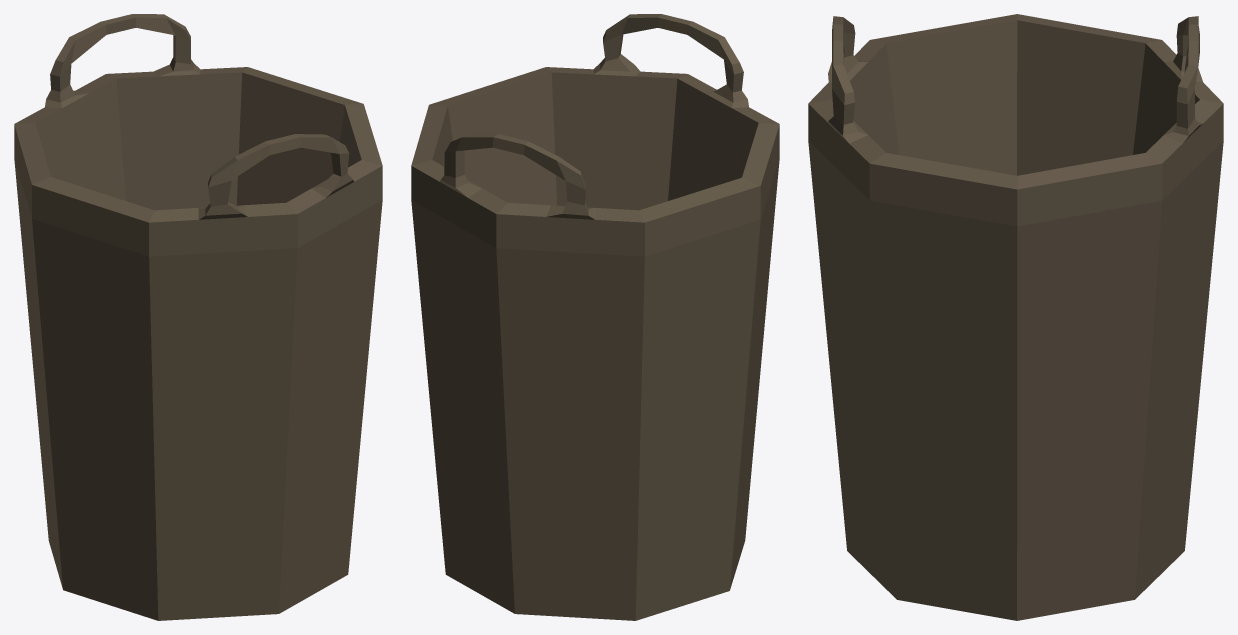
The model's file is LaundryBasket.fbx.
3 renders of one model, left to right at view 1: azimuth 30°, elevation 25°; view 2: azimuth 150°, elevation 25°; view 3: azimuth 270°, elevation 25°, orthographic. The views are drawn at different scales.
Visible parts, largest first — view 1: pCube51; view 2: pCube51; view 3: pCube51.
Boxes of the visible parts, x1,y1,x2,y2 form: pCube51: [14, 14, 382, 620]; pCube51: [411, 14, 779, 620]; pCube51: [808, 14, 1223, 620].
Bounding box in the file's own units: 25.86 × 35.58 × 25.86.
